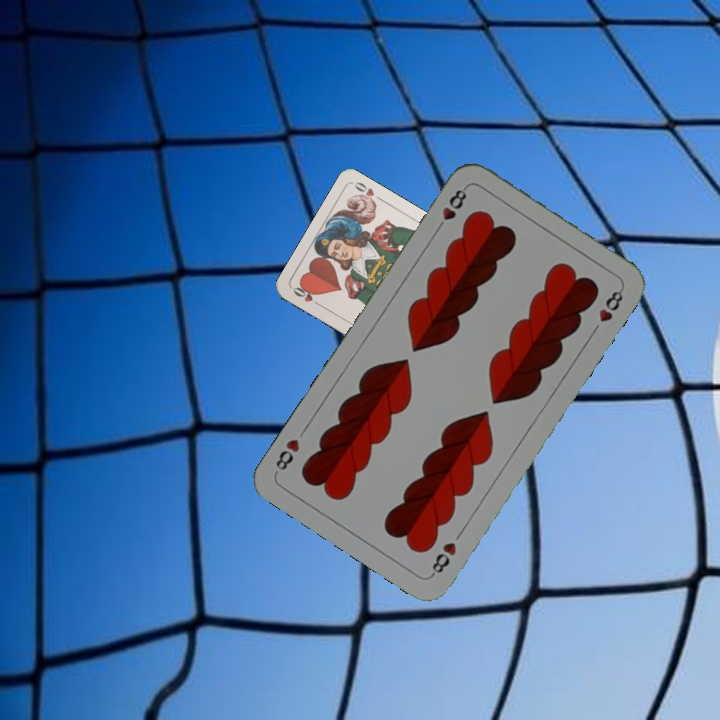H8: (432, 182, 470, 235), (427, 538, 459, 579)
HO: (289, 281, 326, 310)
